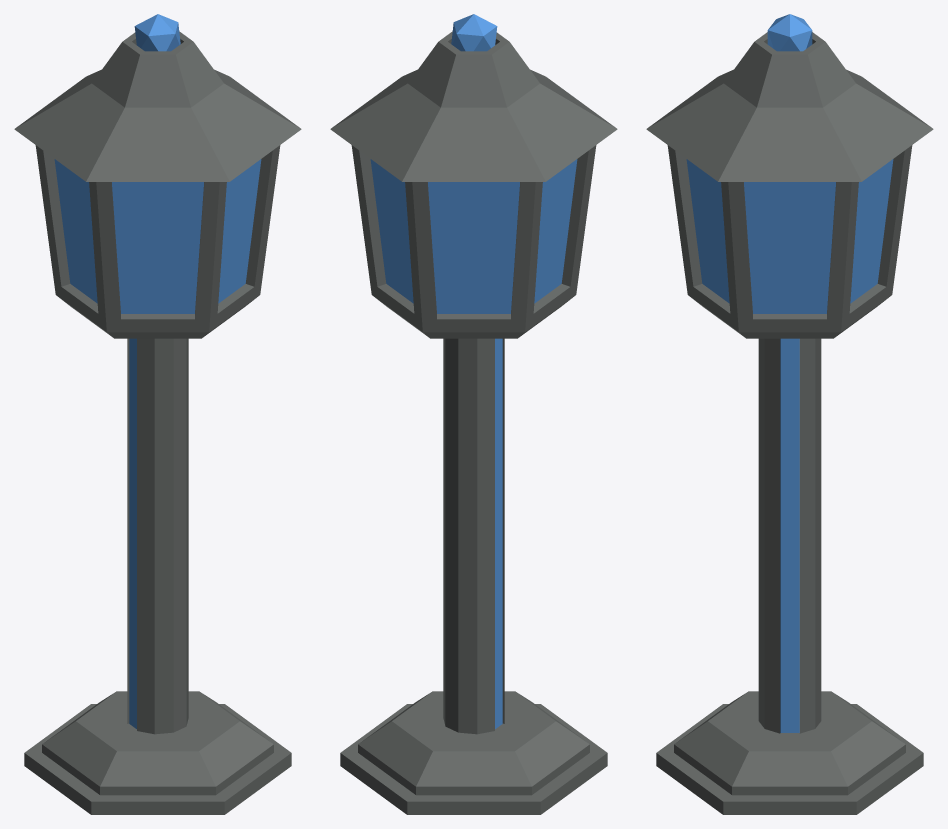
The model's file is Torch.fbx.
3 renders of one model, left to right at view 1: azimuth 30°, elevation 25°; view 2: azimuth 150°, elevation 25°; view 3: azimuth 270°, elevation 25°, orthographic.
Parts seen in each view (by area): view 1: Cylinder.004, Cylinder.005, Cylinder, Cylinder.003, Cylinder.002, Cylinder.001, Icosphere; view 2: Cylinder.004, Cylinder.005, Cylinder, Cylinder.003, Cylinder.002, Cylinder.001, Icosphere; view 3: Cylinder.004, Cylinder.005, Cylinder.003, Cylinder, Cylinder.002, Cylinder.001, Icosphere.
Boxes of the visible parts, left/top/right/bottom form: Cylinder.004: left=14, top=31, right=301, bottom=181; Cylinder.005: left=24, top=691, right=291, bottom=814; Cylinder: left=127, top=338, right=188, bottom=734; Cylinder.003: left=54, top=159, right=261, bottom=313; Cylinder.002: left=35, top=145, right=280, bottom=338; Cylinder.001: left=129, top=338, right=136, bottom=728; Icosphere: left=134, top=14, right=180, bottom=51; Cylinder.004: left=330, top=31, right=617, bottom=181; Cylinder.005: left=340, top=691, right=607, bottom=814; Cylinder: left=443, top=338, right=504, bottom=734; Cylinder.003: left=370, top=159, right=577, bottom=313; Cylinder.002: left=351, top=145, right=596, bottom=338; Cylinder.001: left=495, top=338, right=502, bottom=728; Icosphere: left=451, top=14, right=497, bottom=51; Cylinder.004: left=646, top=32, right=933, bottom=181; Cylinder.005: left=656, top=691, right=923, bottom=814; Cylinder.003: left=686, top=159, right=893, bottom=313; Cylinder: left=758, top=338, right=821, bottom=733; Cylinder.002: left=667, top=145, right=912, bottom=338; Cylinder.001: left=780, top=338, right=799, bottom=732; Icosphere: left=767, top=14, right=812, bottom=51.
Size of the model in its own units: 341 by 1137 by 394.
